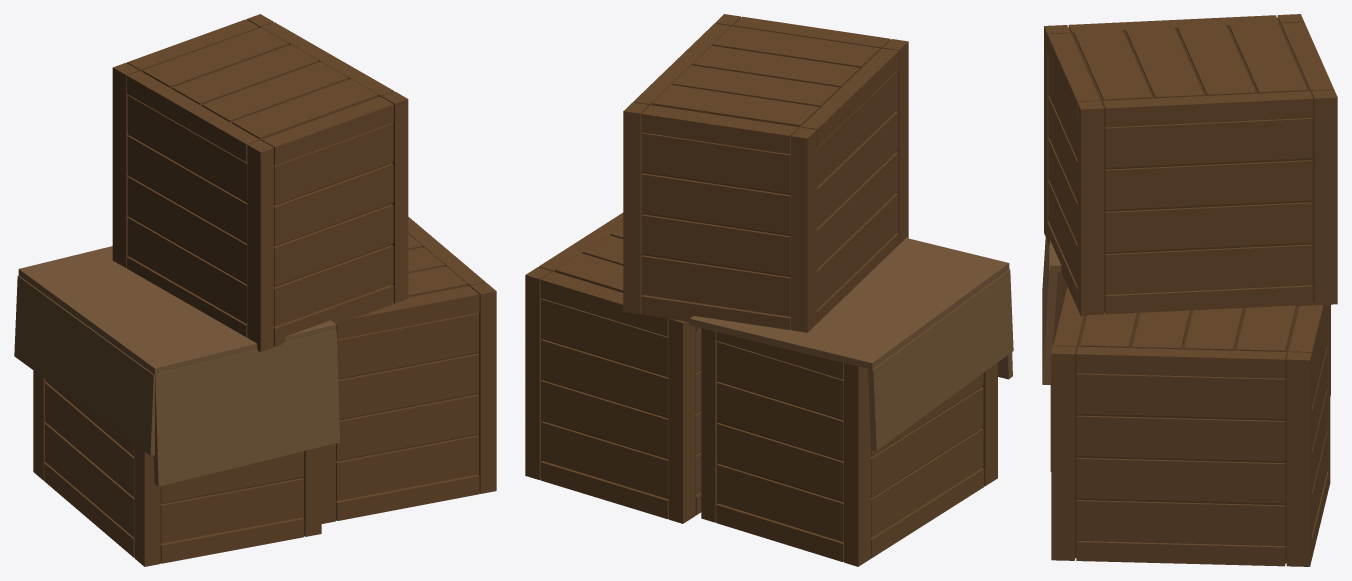
The model's file is crates-stacked-a.glb.
3 views of the same model, side by side, from view 1: azimuth 30°, elevation 25°; view 2: azimuth 150°, elevation 25°; view 3: azimuth 270°, elevation 25° (orthographic). The views are drawn at different scales.
Parts seen in each view (by area): view 1: Body_Wood, Body_Main, Body_WoodDark; view 2: Body_Wood, Body_Main, Body_WoodDark; view 3: Body_Wood, Body_WoodDark, Body_Main.
Boxes of the visible parts, <box> form: Body_Wood: <box>33,14,496,566</box>; Body_Main: <box>14,246,339,486</box>; Body_WoodDark: <box>46,62,478,543</box>; Body_Wood: <box>525,14,997,566</box>; Body_Main: <box>689,238,1013,450</box>; Body_WoodDark: <box>541,49,982,503</box>; Body_Wood: <box>1044,14,1337,566</box>; Body_WoodDark: <box>1068,18,1313,563</box>; Body_Main: <box>1042,237,1061,384</box>.
Size of the model in its own units: 1.6 by 1.7 by 1.1.
